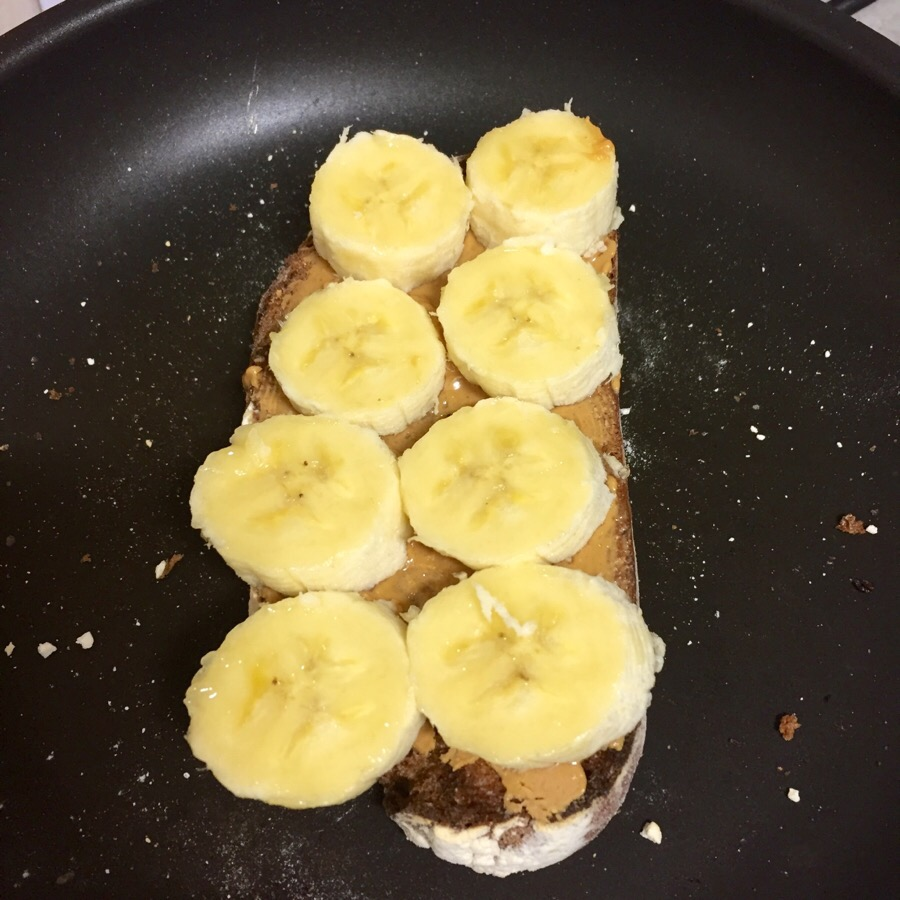slice of bread: (238, 139, 658, 860)
